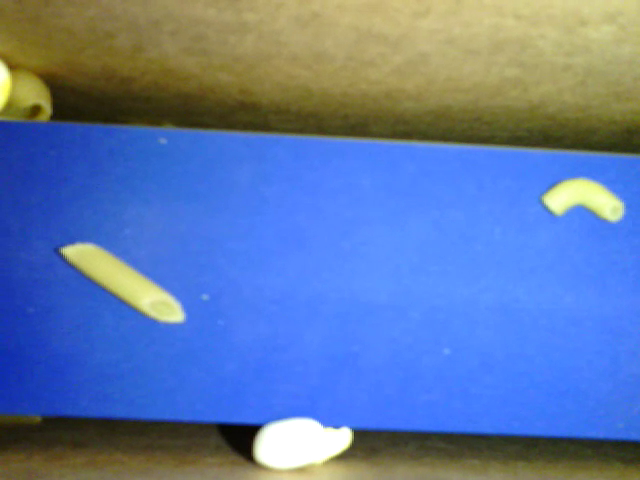elbow: (536, 173, 627, 223)
penne: (55, 237, 188, 327)
shell: (2, 68, 53, 125)
